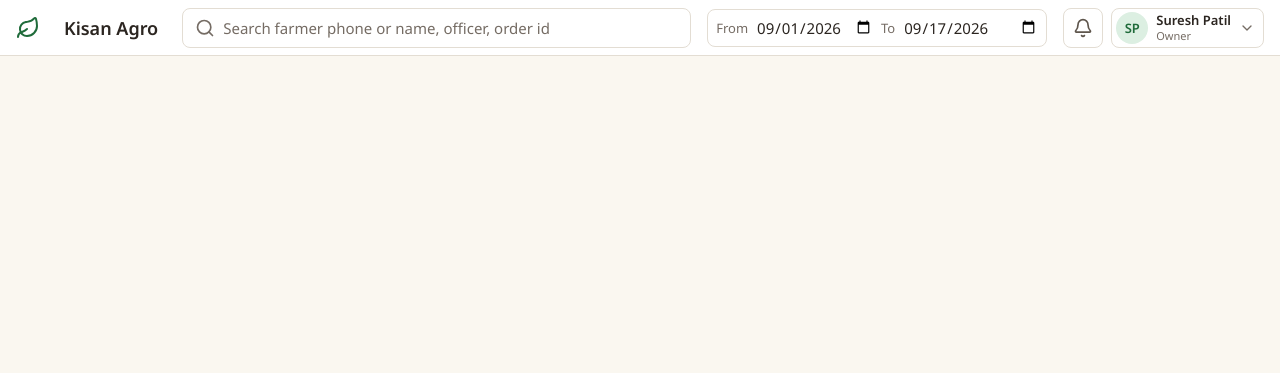
Scenario: TopBar › profile menu closes on Escape and offers sign out when wired
Click the button with test id "profile-menu-trigger". click: (1188, 28)
box: [1111,8,1264,48]
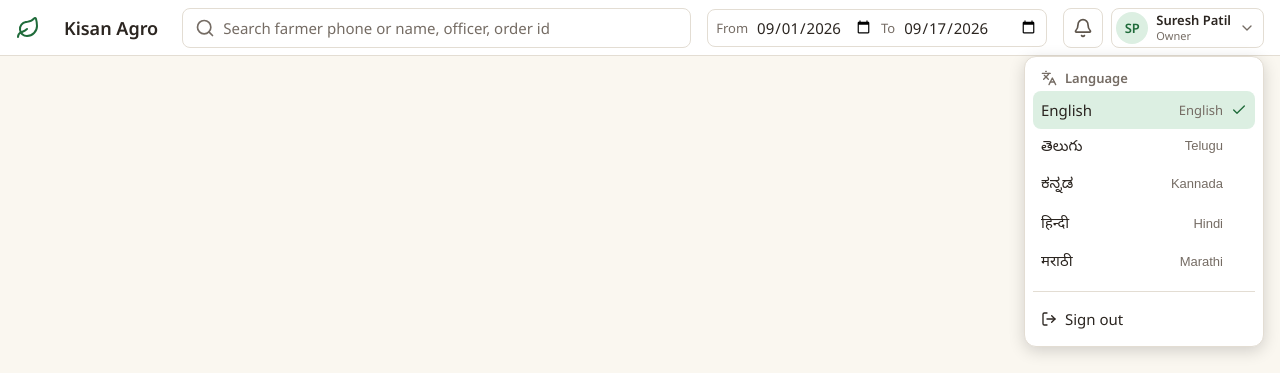
Now the menu with test id "profile-menu" is shown, box [1024,56,1264,346]
Press Escape
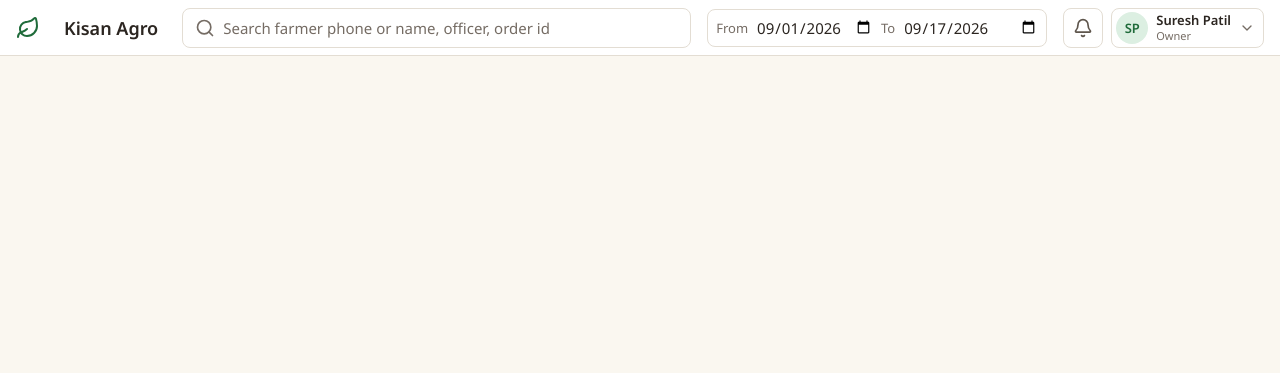
Now the menu with test id "profile-menu" is gone
Click the button with test id "profile-menu-trigger". click: (1188, 28)
box: [1111,8,1264,48]
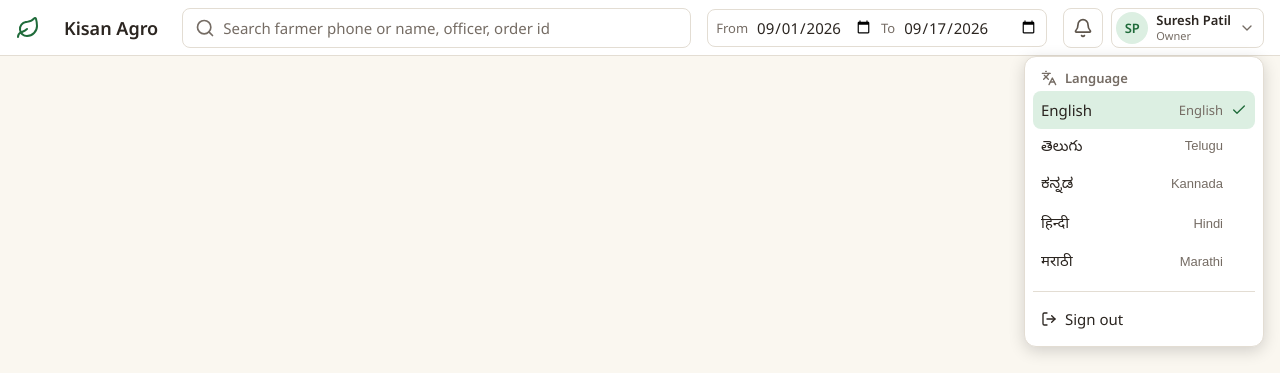
Click the menu item with test id "sign-out". click: (1144, 318)
box: [1033,300,1255,338]
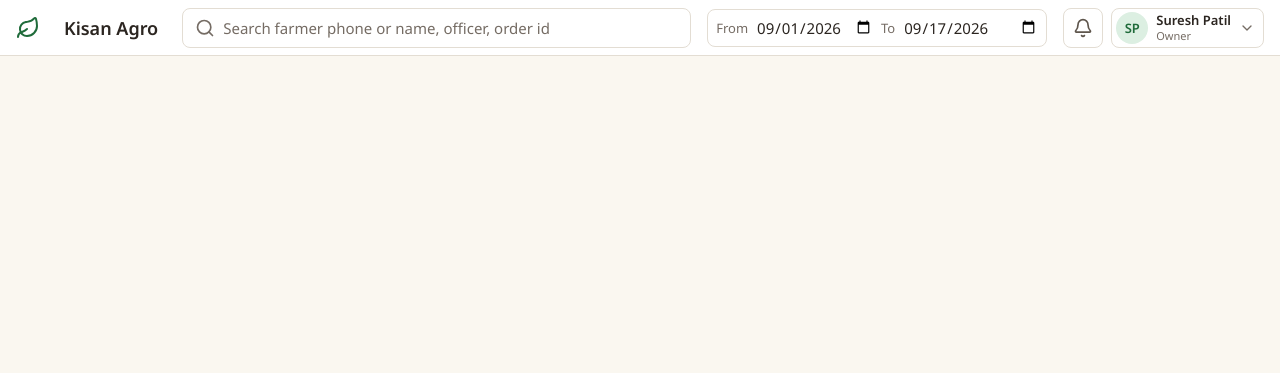
Now the menu with test id "profile-menu" is gone
